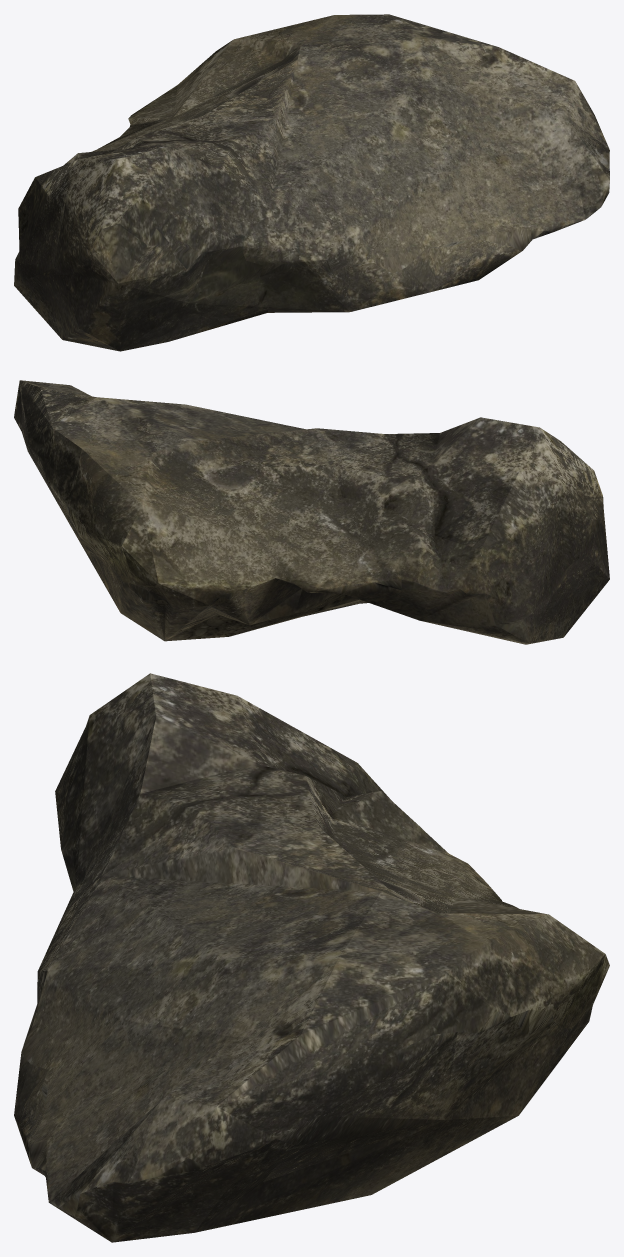
File: Rock 3.fbx
The picture shows the model from 3 angles, top to bottom: view 1: azimuth 30°, elevation 25°; view 2: azimuth 150°, elevation 25°; view 3: azimuth 270°, elevation 25°; orthographic projection. The views are drawn at different scales.
Parts seen in each view (by area): view 1: Rock_3; view 2: Rock_3; view 3: Rock_3.
Part boxes in pixels (x1,y1,x2,y2): Rock_3: (14,14,609,351); Rock_3: (14,380,609,644); Rock_3: (14,673,609,1242).
Bounding box in the file's own units: 109 × 37.37 × 69.19.
1 material, 1 textured.
